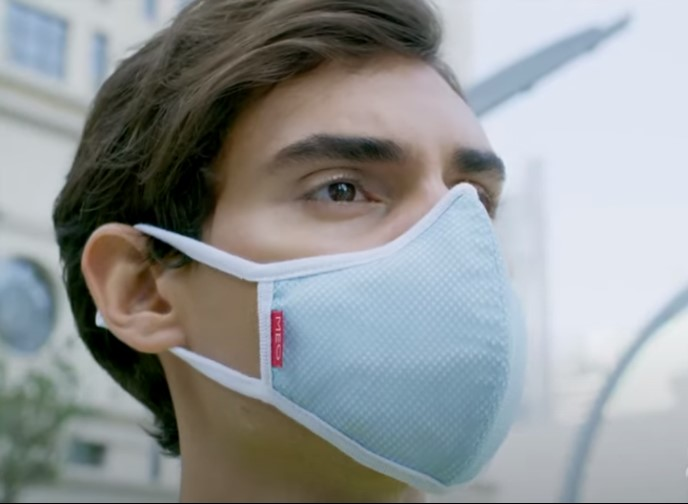face_with_mask: (52, 5, 527, 500)
